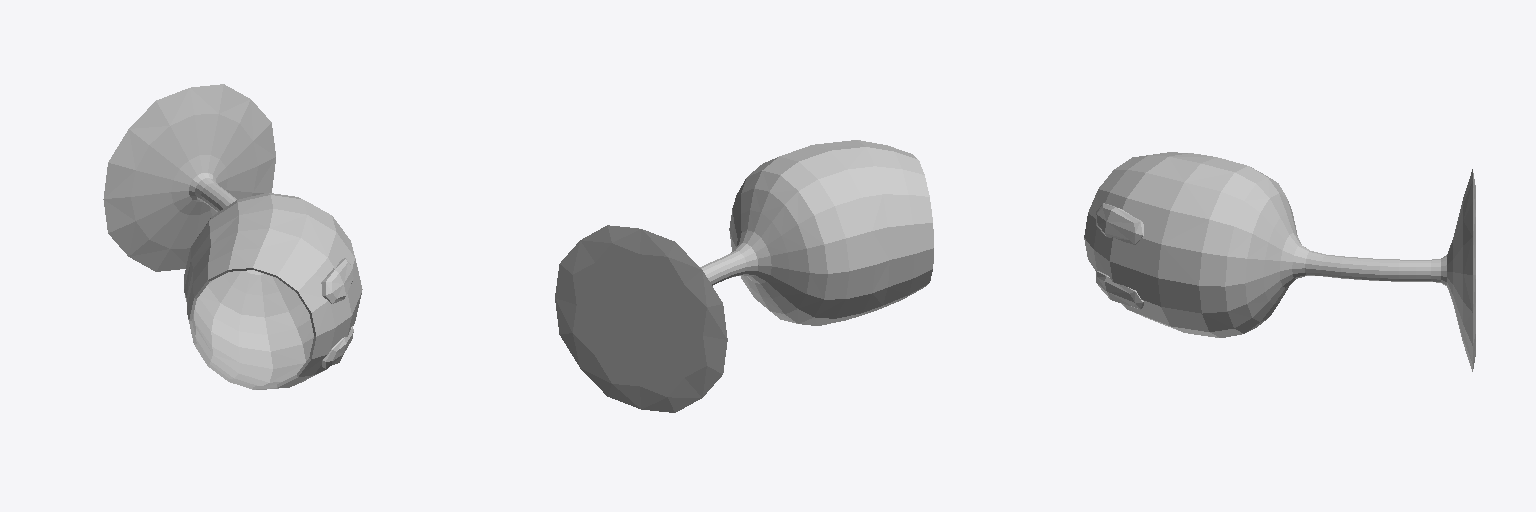
The model's file is animation_000004.obj.
The picture shows the model from 3 angles: view 1: azimuth 30°, elevation 25°; view 2: azimuth 150°, elevation 25°; view 3: azimuth 270°, elevation 25°; orthographic projection.
Size of the model in its own units: 2.79 by 2.06 by 4.05.